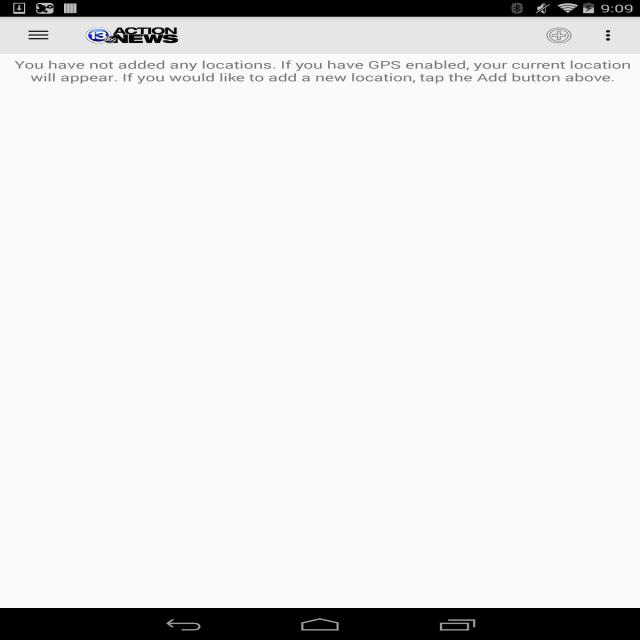button: (540, 25, 576, 46), (23, 25, 55, 46), (594, 26, 622, 47)
image: (82, 22, 188, 46)
text: (11, 58, 634, 86)
